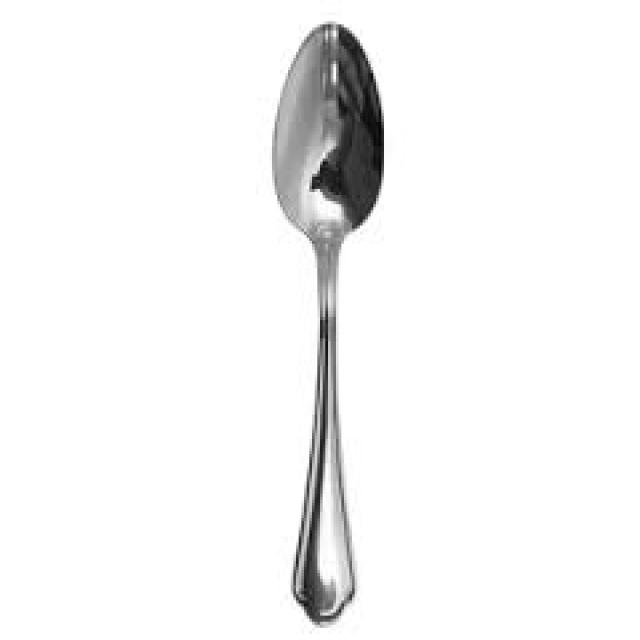spoon: (269, 21, 387, 631)
